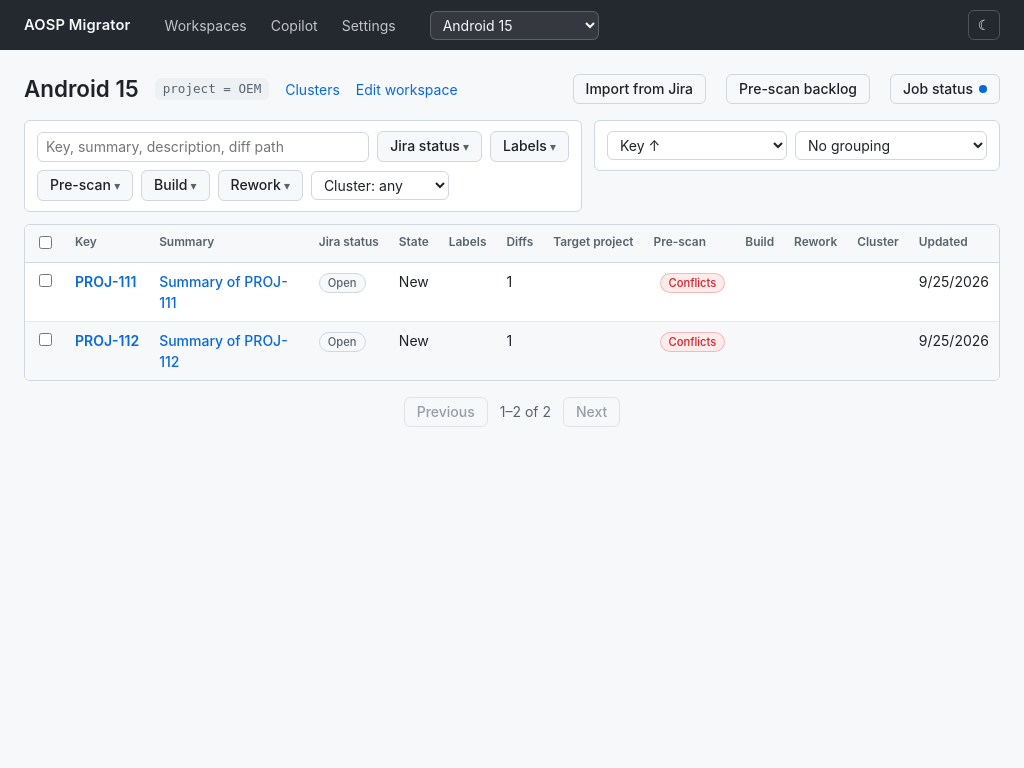
Backlog rework › shows the rework job in the job popup and cancels it
Click the button "Job status": (945, 89) [890,74,1000,104]
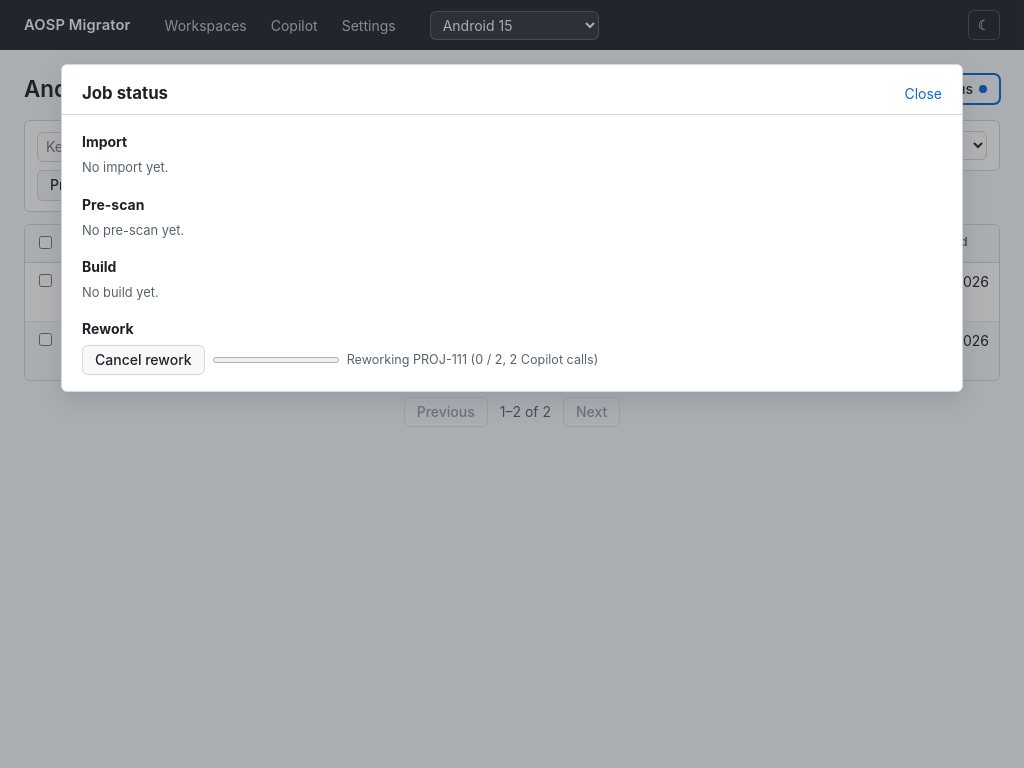
Expected: the message reads "Reworking PROJ-111 (0 / 2, 2 Copilot calls)", [347,352,598,367]
Click the button "Cancel rework": (143, 360) [82,345,205,375]
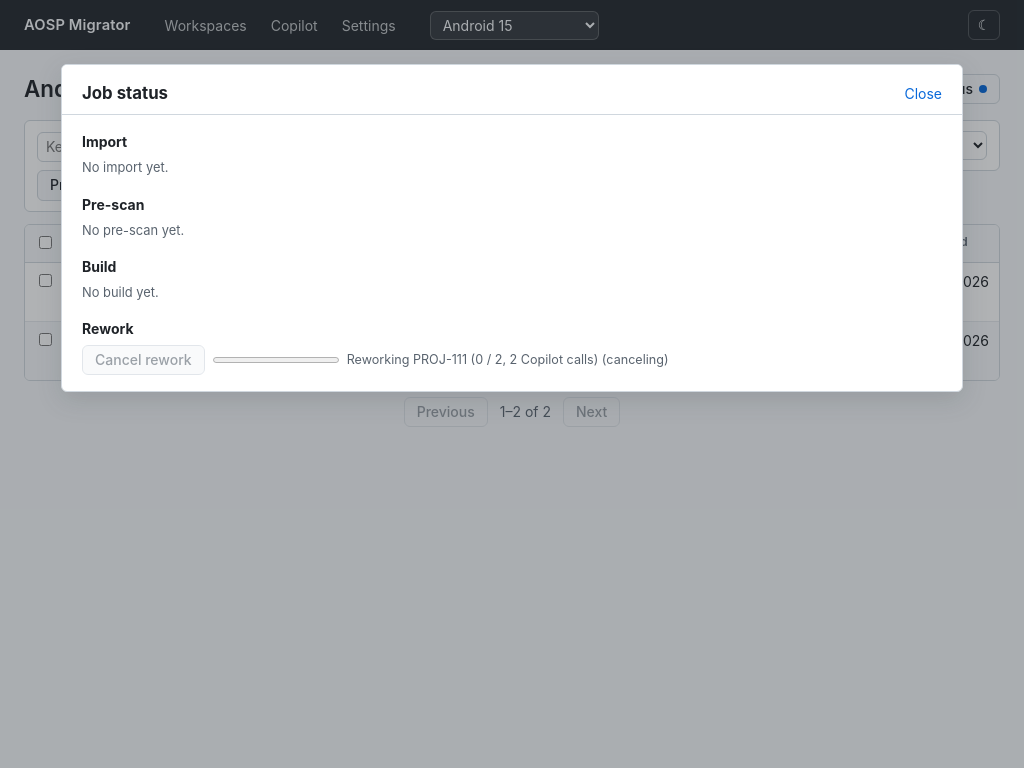
Expected: the message shows "(canceling)", [347,352,668,367]
